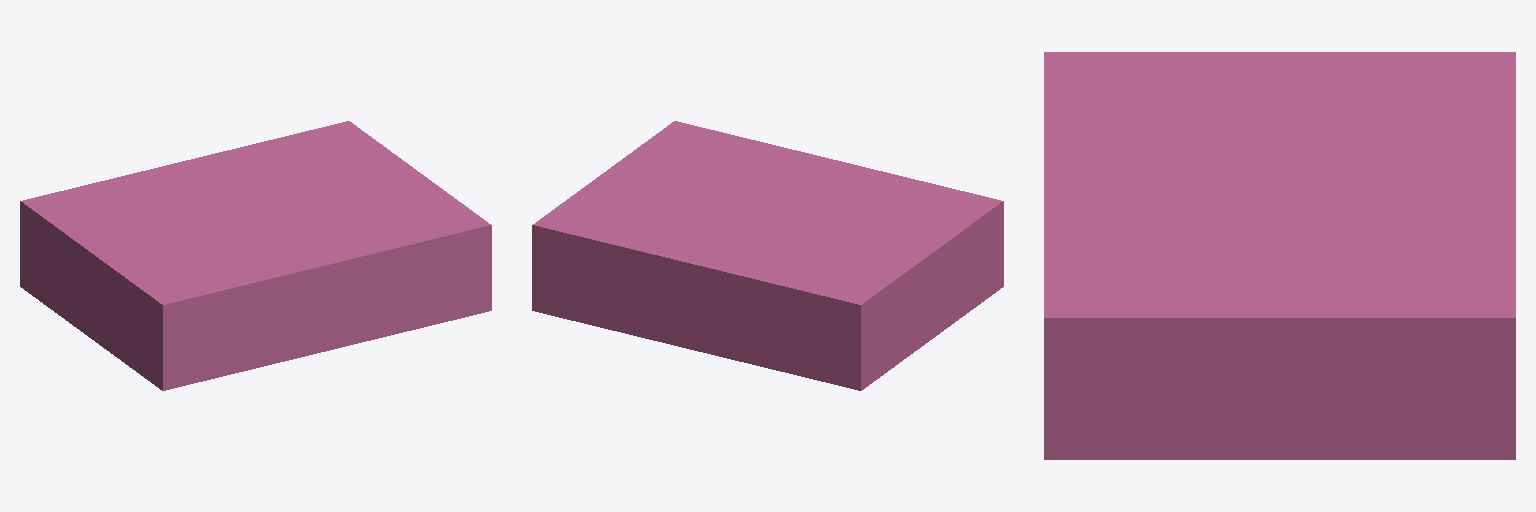
robot.urdf — hexapod:
<?xml version="1.0" ?>
<!-- =================================================================================== -->
<!-- |    This document was autogenerated by xacro from src/hexapod_description/robots/arm.urdf.xacro | -->
<!-- |    EDITING THIS FILE BY HAND IS NOT RECOMMENDED                                 | -->
<!-- =================================================================================== -->
<robot name="hexapod">
  <gazebo>
    <plugin filename="libgz_ros2_control-system" name="gz_ros2_control::GazeboSimROS2ControlPlugin">
      <parameters>[local-path]/Code/hexapod-ros/install/hexapod_sim/share/hexapod_sim/config/hexapod_controllers.yaml</parameters>
    </plugin>
  </gazebo>
  <!-- Init colour -->
  <material name="TPU">
    <color rgba="0.3 0.3 0.3 1.0"/>
  </material>
  <material name="PLA">
    <color rgba="0.3 0.3 0.3 1.0"/>
  </material>
  <!-- =============== Link & Joint =============== -->
  <!-- Base -->
  <link name="base_link"/>
  <!-- Joints -->
  <joint name="arm_base_mount_joint" type="fixed">
    <origin rpy="0 0 0" xyz="0.025588 -0.019423 0.0449"/>
    <parent link="base_link"/>
    <child link="arm_base"/>
  </joint>
  <joint name="arm_rotator_joint" type="continuous">
    <origin rpy="0 0 0" xyz="8.8e-05 0.019999 0.02995"/>
    <parent link="arm_base"/>
    <child link="arm_rotator"/>
    <axis xyz="0.0 -0.0 -1.0"/>
    <limit effort="100" lower="-1.570796" upper="1.570796" velocity="100"/>
  </joint>
  <joint name="arm_abductor_joint" type="revolute">
    <origin rpy="0 0 0" xyz="0.014582 0.00069 0.013923"/>
    <parent link="arm_rotator"/>
    <child link="arm_abductor"/>
    <axis xyz="-1.0 0.0 -0.0"/>
    <limit effort="100" lower="-1.570796" upper="1.570796" velocity="100"/>
  </joint>
  <joint name="arm_retractor_joint" type="revolute">
    <origin rpy="0 0 0" xyz="-0.000401 0.0 0.046709"/>
    <parent link="arm_abductor"/>
    <child link="arm_retractor"/>
    <axis xyz="-0.999993 0.0 -0.003676"/>
     p 
    <limit effort="100" lower="-1.570796" upper="1.570796" velocity="100"/>
  </joint>
  <!-- Links -->
  <link name="arm_rotator">
    <inertial>
      <origin rpy="0 0 0" xyz="-0.00046642883527773724 0.0027188082250819237 0.00576546998065737"/>
      <mass value="0.02623546025799875"/>
      <inertia ixx="4e-06" ixy="0.0" ixz="0.0" iyy="4e-06" iyz="-0.0" izz="5e-06"/>
    </inertial>
    <visual>
      <origin rpy="0 0 0" xyz="-0.025676 -0.000576 -0.07485"/>
      <geometry>
        <mesh filename="file://[local-path]/Code/hexapod-ros/install/hexapod_description/share/hexapod_description/meshes/visual/rotator.stl" scale="0.001 0.001 0.001"/>
      </geometry>
      <material name="PLA"/>
    </visual>
    <collision>
      <origin rpy="0 0 0" xyz="-0.025676 -0.000576 -0.07485"/>
      <geometry>
        <mesh filename="file://[local-path]/Code/hexapod-ros/install/hexapod_description/share/hexapod_description/meshes/collision/rotator.stl" scale="0.001 0.001 0.001"/>
      </geometry>
    </collision>
  </link>
  <link name="arm_abductor">
    <inertial>
      <origin rpy="0 0 0" xyz="-0.014167725035919117 3.5639852713031765e-07 0.031090662760010462"/>
      <mass value="0.016534189067873267"/>
      <inertia ixx="5e-06" ixy="-0.0" ixz="1e-06" iyy="7e-06" iyz="-0.0" izz="2e-06"/>
    </inertial>
    <visual>
      <origin rpy="0 0 0" xyz="-0.040258 -0.001266 -0.088773"/>
      <geometry>
        <mesh filename="file://[local-path]/Code/hexapod-ros/install/hexapod_description/share/hexapod_description/meshes/visual/abductor.stl" scale="0.001 0.001 0.001"/>
      </geometry>
      <material name="PLA"/>
    </visual>
    <collision>
      <origin rpy="0 0 0" xyz="-0.040258 -0.001266 -0.088773"/>
      <geometry>
        <mesh filename="file://[local-path]/Code/hexapod-ros/install/hexapod_description/share/hexapod_description/meshes/collision/abductor.stl" scale="0.001 0.001 0.001"/>
      </geometry>
    </collision>
  </link>
  <link name="arm_retractor">
    <inertial>
      <origin rpy="0 0 0" xyz="-0.011027322351092845 -5.220911472792085e-05 0.023364114206742087"/>
      <mass value="0.015328010788351278"/>
      <inertia ixx="3e-06" ixy="0.0" ixz="-0.0" iyy="5e-06" iyz="0.0" izz="4e-06"/>
    </inertial>
    <visual>
      <origin rpy="0 0 0" xyz="-0.039857 -0.001266 -0.135482"/>
      <geometry>
        <mesh filename="file://[local-path]/Code/hexapod-ros/install/hexapod_description/share/hexapod_description/meshes/visual/retractor.stl" scale="0.001 0.001 0.001"/>
      </geometry>
      <material name="PLA"/>
    </visual>
    <collision>
      <origin rpy="0 0 0" xyz="-0.039857 -0.001266 -0.135482"/>
      <geometry>
        <mesh filename="file://[local-path]/Code/hexapod-ros/install/hexapod_description/share/hexapod_description/meshes/collision/retractor.stl" scale="0.001 0.001 0.001"/>
      </geometry>
    </collision>
  </link>
  <link name="arm_base">
    <inertial>
      <origin rpy="0 0 0" xyz="0.004115093716825637 0.020000308654227843 0.01035421864114821"/>
      <mass value="0.014628769254330782"/>
      <inertia ixx="2e-06" ixy="0.0" ixz="-0.0" iyy="3e-06" iyz="0.0" izz="2e-06"/>
    </inertial>
    <visual>
      <origin rpy="0 0 0" xyz="-0.025588 0.019423 -0.0449"/>
      <geometry>
        <mesh filename="file://[local-path]/Code/hexapod-ros/install/hexapod_description/share/hexapod_description/meshes/visual/base.stl" scale="0.001 0.001 0.001"/>
      </geometry>
      <material name="PLA"/>
    </visual>
    <collision>
      <origin rpy="0 0 0" xyz="-0.025588 0.019423 -0.0449"/>
      <geometry>
        <mesh filename="file://[local-path]/Code/hexapod-ros/install/hexapod_description/share/hexapod_description/meshes/collision/base.stl" scale="0.001 0.001 0.001"/>
      </geometry>
    </collision>
  </link>
  <!-- Joints -->
  <joint name="camera_case_cover_joint" type="fixed">
    <origin rpy="0 -1.5707963267948966 -1.5707963267948966" xyz="-0.0125 0.0 0.055"/>
    <parent link="arm_retractor"/>
    <child link="camera_case_cover"/>
  </joint>
  <!-- Joints -->
  <joint name="depth_camera_link_joint" type="fixed">
    <origin rpy="0 -1.5707963267948966 -1.5707963267948966" xyz="-0.0125 0.0 0.055"/>
    <parent link="arm_retractor"/>
    <child link="depth_camera_link"/>
  </joint>
  <!-- Links -->
  <link name="camera_case_cover">
    <inertial>
      <origin rpy="0 0 0" xyz="0.07257325961305607 0.023187735063927437 0.09454807900867684"/>
      <mass value="0.00672643608404174"/>
      <inertia ixx="1e-06" ixy="0.0" ixz="0.0" iyy="2e-06" iyz="0.0" izz="3e-06"/>
    </inertial>
    <visual>
      <origin rpy="1.5707963267948966 0 1.5707963267948966" xyz="-0.185 -0.0275 0.0"/>
      <geometry>
        <mesh filename="file://[local-path]/Code/hexapod-ros/install/hexapod_description/share/hexapod_description/meshes/visual/camera_case_cover.stl" scale="0.001 0.001 0.001"/>
      </geometry>
      <material name="PLA"/>
    </visual>
    <collision>
      <origin rpy="0 0 0" xyz="0.041999 0.020484 -0.080935"/>
      <geometry>
        <mesh filename="file://[local-path]/Code/hexapod-ros/install/hexapod_description/share/hexapod_description/meshes/collision/camera_case_cover.stl" scale="0.001 0.001 0.001"/>
      </geometry>
    </collision>
  </link>
  <!-- Links -->
  <link name="depth_camera_link">
    <visual>
      <origin rpy="0 0 0" xyz="-0.0125 0.0025 -0.0"/>
      <geometry>
        <box size="0.01 0.04 0.03"/>
      </geometry>
    </visual>
  </link>
  <!-- Joints -->
  <joint name="depth_camera_optical_joint" type="fixed">
    <origin rpy="-1.5707963267948966 0 -1.5707963267948966" xyz="0.0 0.0 0.0"/>
    <parent link="depth_camera_link"/>
    <child link="depth_camera_optical_frame"/>
  </joint>
  <link name="depth_camera_optical_frame">
    </link>
  <!-- Gazebo -->
  <gazebo reference="depth_camera_link">
    <sensor name="depth_camera_link" type="depth_camera">
      <always_on>true</always_on>
      <visualize>true</visualize>
      <update_rate>100</update_rate>
      <!-- Max FPS according to spec -->
      <topic>depth_camera/depth/image_raw</topic>
      <gz_frame_id>depth_camera_optical_frame</gz_frame_id>
      <camera name="Sipeed_MaixSense_A010">
        <camera_info_topic>depth_camera/depth/camera_info</camera_info_topic>
        <horizontal_fov>1.0472</horizontal_fov>
        <!-- Approx. 60 degrees in radians -->
        <image>
          <width>100</width>
          <!-- As specified: 100x100 depth resolution -->
          <height>100</height>
          <format>R_FLOAT32</format>
          <!-- Float32 is good for depth -->
        </image>
        <clip>
          <near>0.05</near>
          <!-- Minimum range is 5cm -->
          <far>3.0</far>
          <!-- Max range is 3m -->
        </clip>
        <noise>
          <type>gaussian</type>
          <mean>0.0</mean>
          <stddev>0.01</stddev>
          <!-- Adjusted to simulate real sensor noise -->
        </noise>
      </camera>
    </sensor>
  </gazebo>
  <!-- =============== Gazebo =============== -->
  <gazebo>
    <plugin filename="gz-sim-sensors-system" name="gz::sim::systems::Sensors">
      <render_engine>ogre2</render_engine>
    </plugin>
  </gazebo>
  <ros2_control name="FakeSystem" type="system">
    <hardware>
      <plugin>gz_ros2_control/GazeboSimSystem</plugin>
    </hardware>
    <joint name="arm_rotator_joint">
      <command_interface name="position">
        <param name="min">-1.5</param>
        <param name="max">1.5</param>
        <!-- <param name="initial_value">${initial_positions['top_left_rotate_joint']}</param> -->
      </command_interface>
      <state_interface name="position"/>
    </joint>
    <joint name="arm_abductor_joint">
      <command_interface name="position">
        <param name="min">-1.5</param>
        <param name="max">1.5</param>
        <!-- <param name="initial_value">${initial_positions['top_left_rotate_joint']}</param> -->
      </command_interface>
      <state_interface name="position"/>
    </joint>
    <joint name="arm_retractor_joint">
      <command_interface name="position">
        <param name="min">-1.5</param>
        <param name="max">1.5</param>
        <!-- <param name="initial_value">${initial_positions['top_left_rotate_joint']}</param> -->
      </command_interface>
      <state_interface name="position"/>
    </joint>
  </ros2_control>
</robot>

--- Render facts (derived) ---
3 views of the same robot in one strip: view 1: azimuth 30°, elevation 25°; view 2: azimuth 150°, elevation 25°; view 3: azimuth 270°, elevation 25° (orthographic).
Robot: hexapod — 8 links, 7 joints (2 revolute, 1 continuous, 4 fixed); root link base_link; default pose: every joint at zero.
Visible links, largest first — view 1: depth_camera_link; view 2: depth_camera_link; view 3: depth_camera_link.
Boxes of the visible links, x1,y1,x2,y2 form: depth_camera_link: [20, 121, 491, 390]; depth_camera_link: [532, 121, 1003, 390]; depth_camera_link: [1044, 52, 1515, 459].
Size in the robot's own frame: 0.04 by 0.03 by 0.01 metres.
Geometry: only primitive shapes (box / cylinder / sphere) drawn; not drawn: 5 mesh visuals (reference in a form the renderer does not follow).